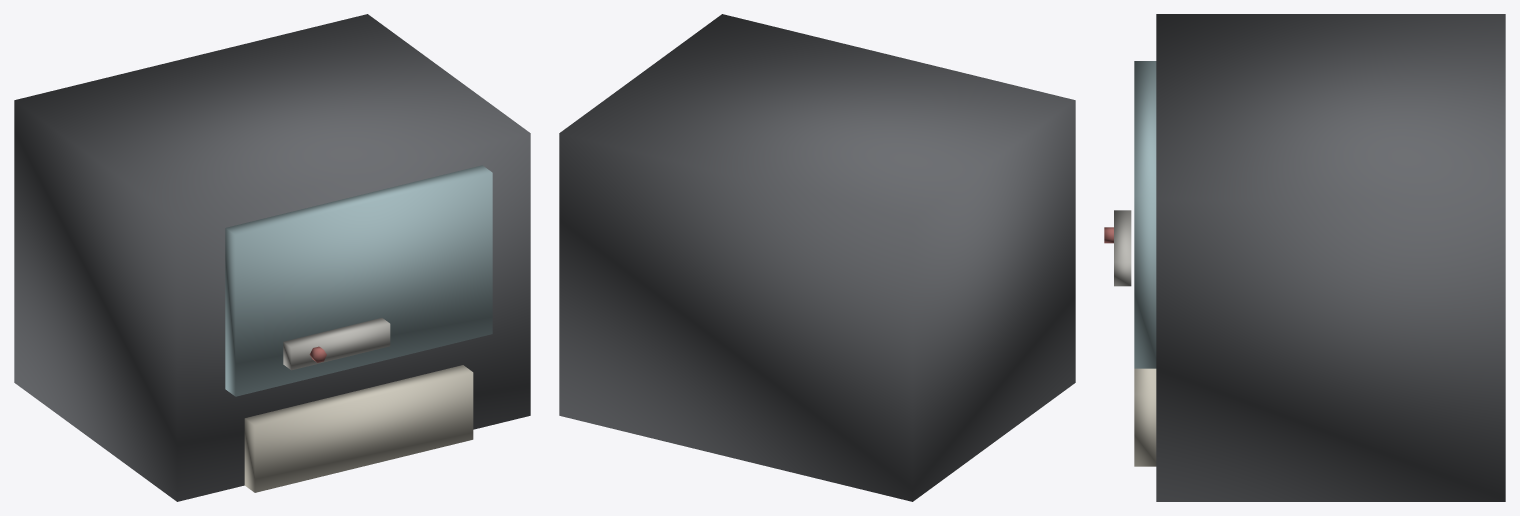
Rendered from microfilm_reader__deep.glb.
The picture shows the model from 3 angles, left to right: view 1: azimuth 30°, elevation 25°; view 2: azimuth 150°, elevation 25°; view 3: azimuth 270°, elevation 25°; orthographic projection. The views are drawn at different scales.
Visible parts, largest first — view 1: world; view 2: world; view 3: world.
Part boxes in pixels (box(x1,y1,x2,y2)): world: box(14, 14, 530, 501); world: box(559, 14, 1075, 501); world: box(1104, 14, 1505, 501).
Bounding box in the file's own units: 0.55 × 0.42 × 0.5045.
